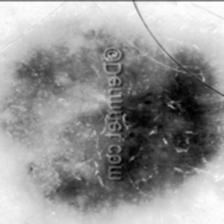Potentially Malignant Skin Tumors: (0, 17, 224, 223)
